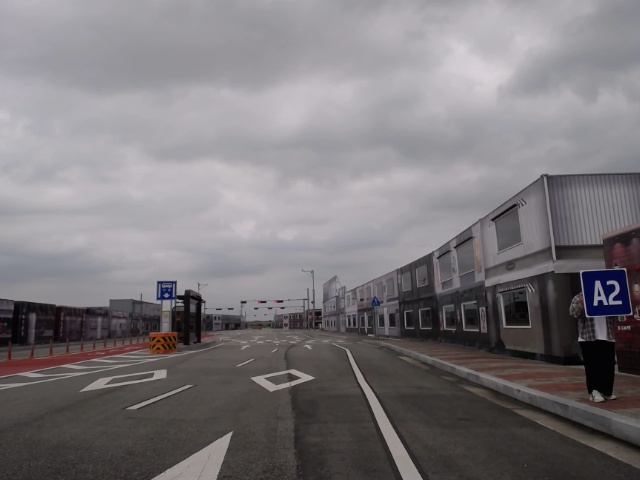delivery_a2: (581, 268, 633, 317)
